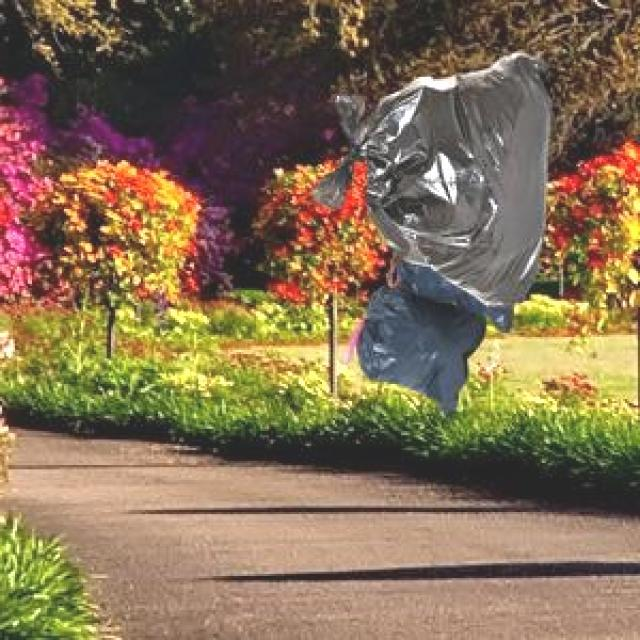Trashbag: (313, 46, 559, 310), (351, 287, 488, 418)
